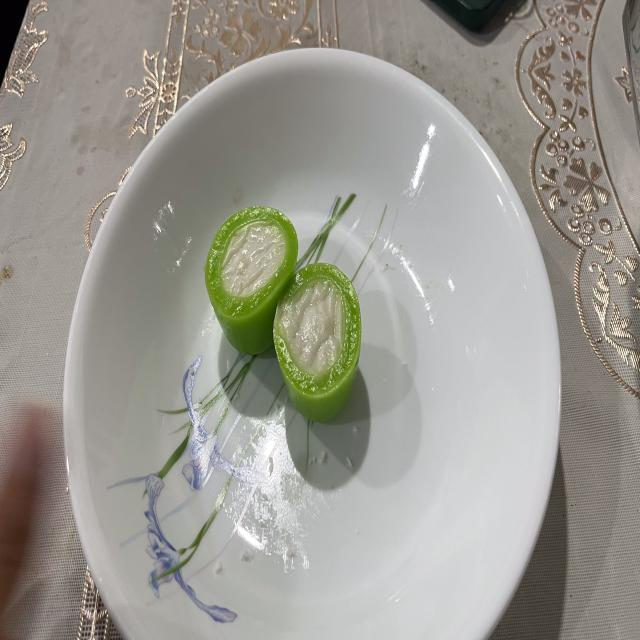nona-manis: (274, 262, 361, 422), (205, 207, 299, 353)
